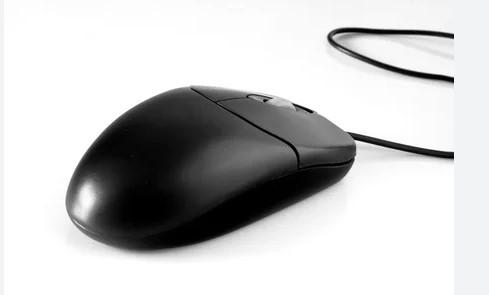computer mouse: (64, 85, 356, 254)
